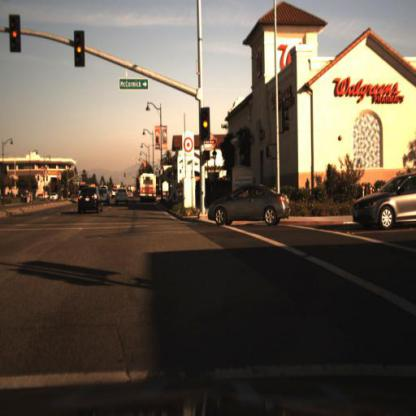car: (209, 185, 292, 226), (352, 180, 414, 231), (77, 186, 104, 216), (114, 186, 130, 208)
trafficLight-Yellow: (75, 29, 87, 71), (11, 13, 23, 54), (201, 105, 215, 137), (200, 108, 212, 143)
truck: (139, 171, 160, 203), (139, 172, 157, 205)
